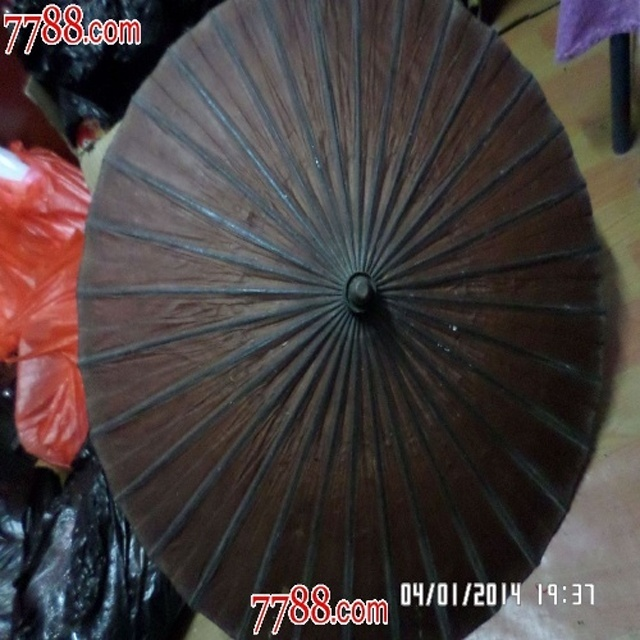umbrella: (70, 1, 610, 640)
